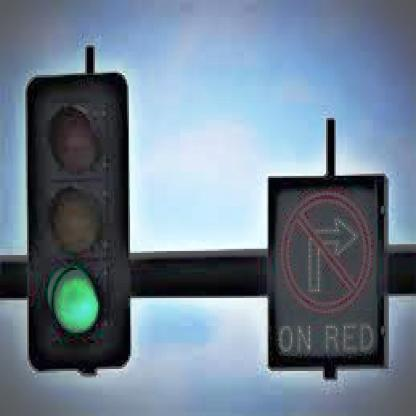No right turn: (274, 184, 380, 317)
